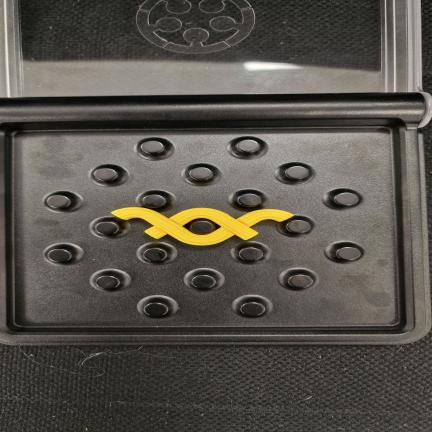A_Yellow: (112, 208, 292, 245)
board: (0, 93, 431, 345)
hinge: (0, 93, 432, 125)
pin: (240, 301, 265, 317), (189, 219, 215, 234), (140, 140, 165, 155), (285, 165, 310, 180), (46, 194, 71, 209), (47, 248, 72, 263), (336, 246, 361, 261), (95, 275, 120, 290), (191, 274, 216, 289), (143, 302, 168, 317), (333, 192, 359, 206), (143, 247, 167, 262), (93, 168, 118, 182), (286, 219, 311, 233), (288, 274, 313, 288), (236, 139, 260, 153), (189, 167, 213, 181), (142, 194, 166, 208), (237, 193, 261, 207), (95, 221, 119, 235), (239, 247, 263, 261)
